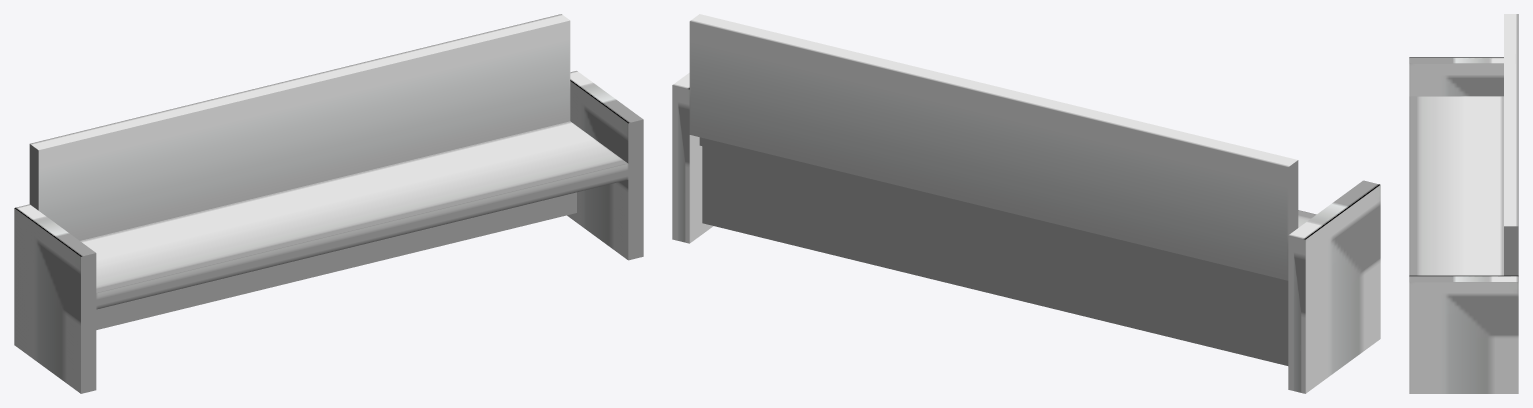
The model's file is Building_Pew.obj.
3 renders of one model, left to right at view 1: azimuth 30°, elevation 25°; view 2: azimuth 150°, elevation 25°; view 3: azimuth 270°, elevation 25°, orthographic. The views are drawn at different scales.
Visible parts, largest first — view 1: Body; view 2: Body; view 3: Body.
Part boxes in pixels (x1,y1,x2,y2): Body: (14, 14, 643, 393); Body: (672, 14, 1380, 393); Body: (1409, 14, 1518, 393).
Size of the model in its own units: 2.92 by 0.98 by 0.6.
Materials: 1 (1 with a texture image).
